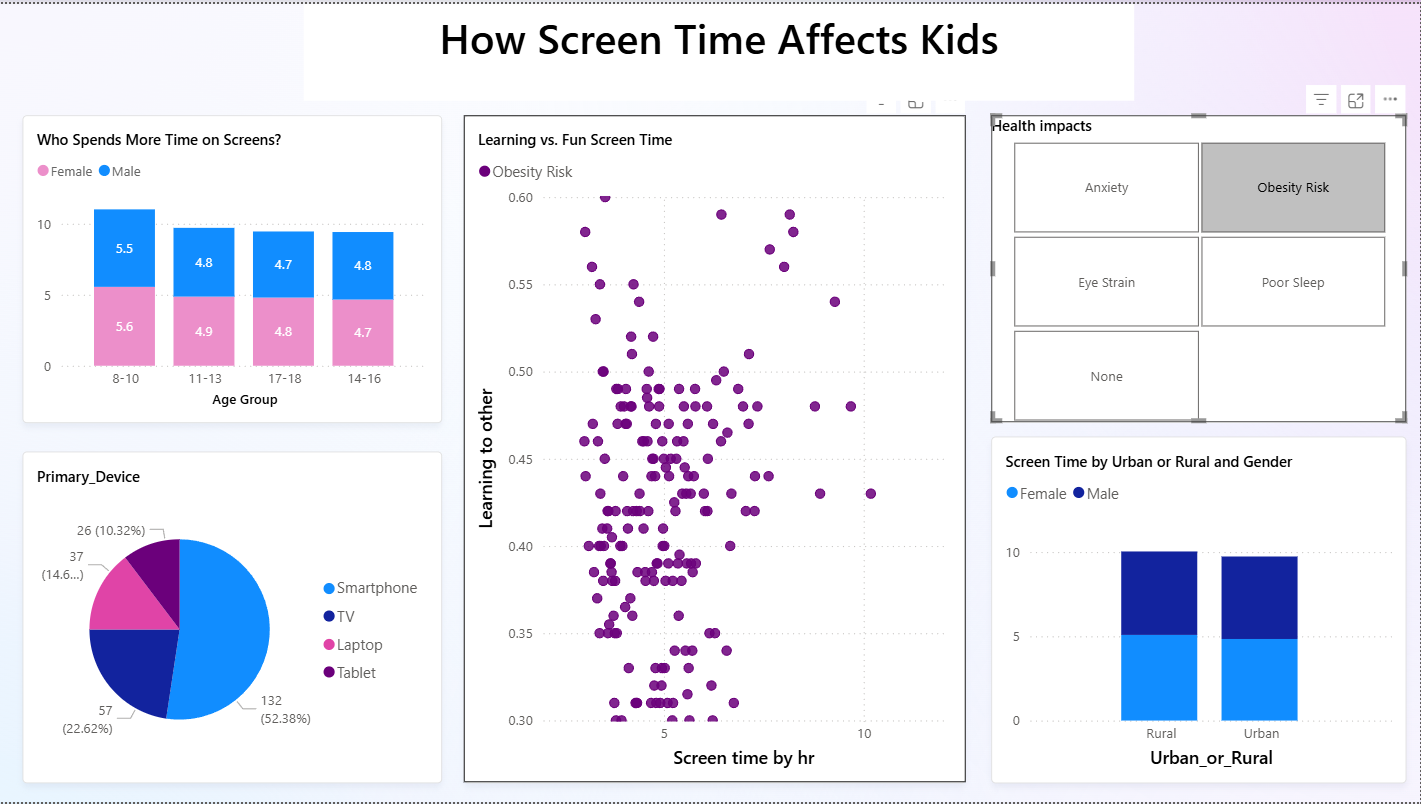

The dashboard page shown, as its layout file describes it:
{"tool":"powerbi","page":{"name":"Page 1","canvas":[1280,720],"ordinal":0},"visuals":[{"type":"columnChart","title":"Who Spends More Time on Screens?","fields":{"Category":["Indian_Kids_Screen_Time.Age Group"],"Y":["Indian_Kids_Screen_Time.Avg Screen Time"],"Series":["Indian_Kids_Screen_Time.Gender"]},"box":[20.3,100.3,378.7,277.3],"z":0},{"type":"pieChart","title":"Primary_Device","fields":{"Category":["Indian_Kids_Screen_Time.Primary_Device"],"Y":["CountNonNull(Indian_Kids_Screen_Time.Primary_Device)"]},"box":[20.6,403.4,378.7,299.1],"z":1000},{"type":"scatterChart","title":"Learning vs. Fun Screen Time","fields":{"X":["Indian_Kids_Screen_Time.Avg_Daily_Screen_Time_hr"],"Y":["Median(Indian_Kids_Screen_Time.Educational_to_Recreational_Ratio)"],"Series":["Indian_Kids_Screen_Time.Health_Impacts.1"]},"box":[418.5,100.2,452.8,602.4],"z":2000},{"type":"columnChart","title":"Screen Time by Urban or Rural and Gender","fields":{"Category":["Indian_Kids_Screen_Time.Urban_or_Rural"],"Y":["Indian_Kids_Screen_Time.Avg Screen Time"],"Series":["Indian_Kids_Screen_Time.Gender"]},"box":[893.3,389.7,374.6,312.9],"z":3000},{"type":"textbox","box":[274,0,748.9,86.8],"z":4000},{"type":"slicer","title":"Health impacts","fields":{"Values":["Indian_Kids_Screen_Time.Health_Impacts.1"]},"box":[893.6,100.4,374.5,277.4],"z":5000}]}

Visuals, with their boxes on the page's 1280x720 design canvas (x1, y1, x2, y2). These are canvas units, not pixel positions in the 1421x804 screenshot, which may show the page scaled, cropped or inside an application window:
"Who Spends More Time on Screens?" columnChart: 20,100,399,378
"Primary_Device" pieChart: 21,403,399,702
"Learning vs. Fun Screen Time" scatterChart: 418,100,871,703
"Screen Time by Urban or Rural and Gender" columnChart: 893,390,1268,703
textbox: 274,0,1023,87
"Health impacts" slicer: 894,100,1268,378
